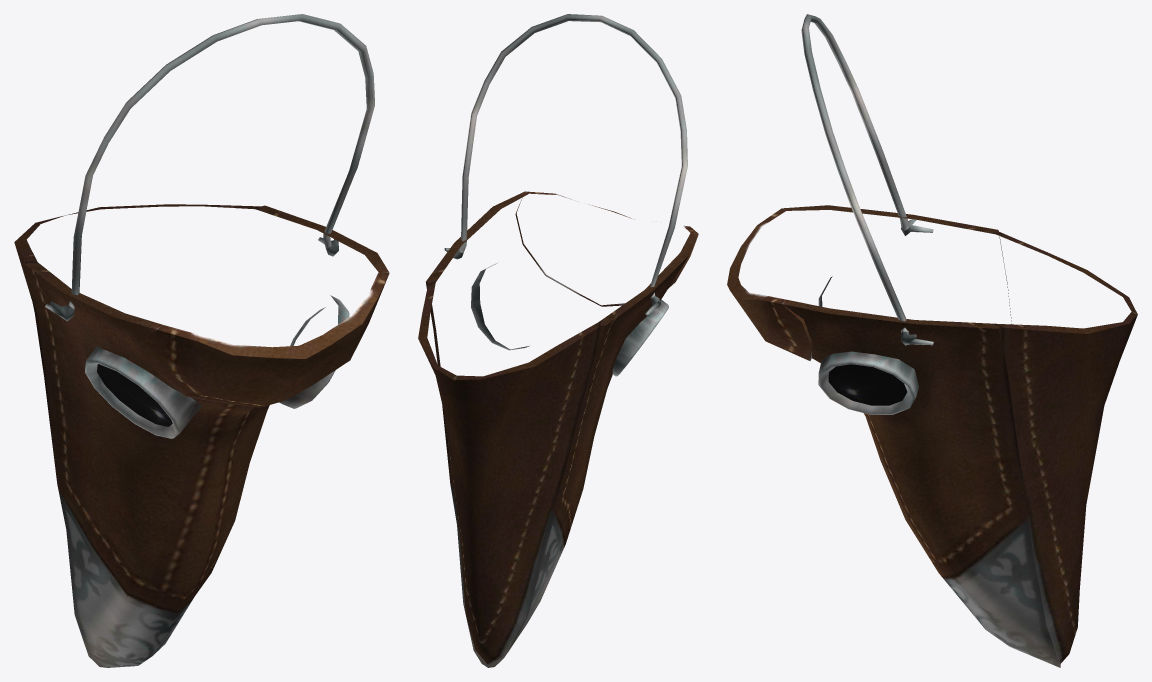
File: doctor.glb
3 views of the same model, side by side, from view 1: azimuth 30°, elevation 25°; view 2: azimuth 150°, elevation 25°; view 3: azimuth 270°, elevation 25° (orthographic). The views are drawn at different scales.
Parts seen in each view (by area): view 1: Doctor; view 2: Doctor; view 3: Doctor.
Boxes of the visible parts, x1=… form: Doctor: x1=14, y1=14, x2=389, y2=667; Doctor: x1=418, y1=14, x2=698, y2=667; Doctor: x1=727, y1=14, x2=1137, y2=667.
Bounding box in the file's own units: 0.1664 × 0.4175 × 0.2425.
Materials: 1 (1 with a texture image).
